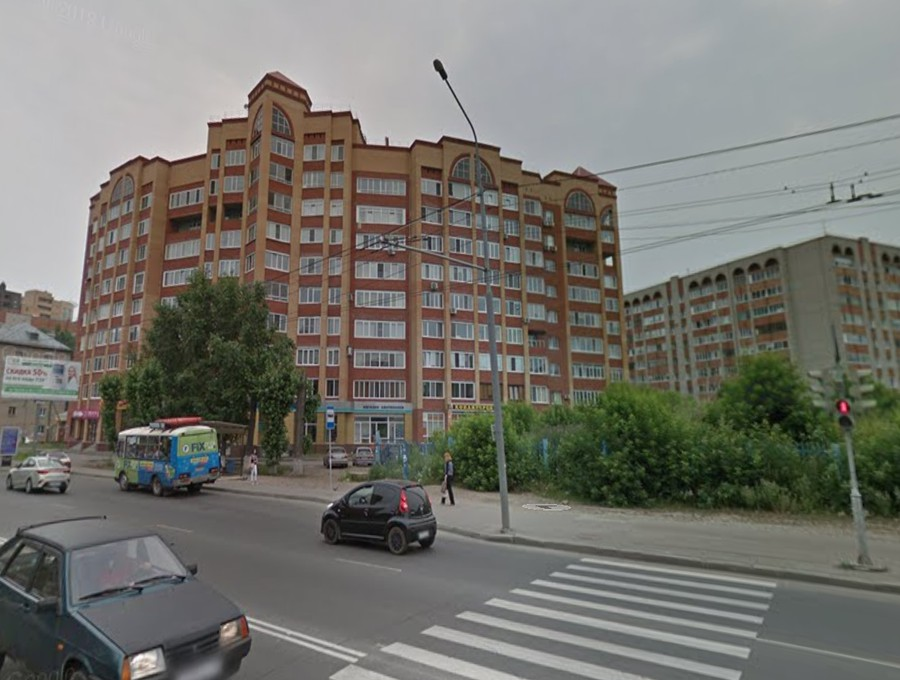Traffic Light-red: (830, 399, 858, 435)
